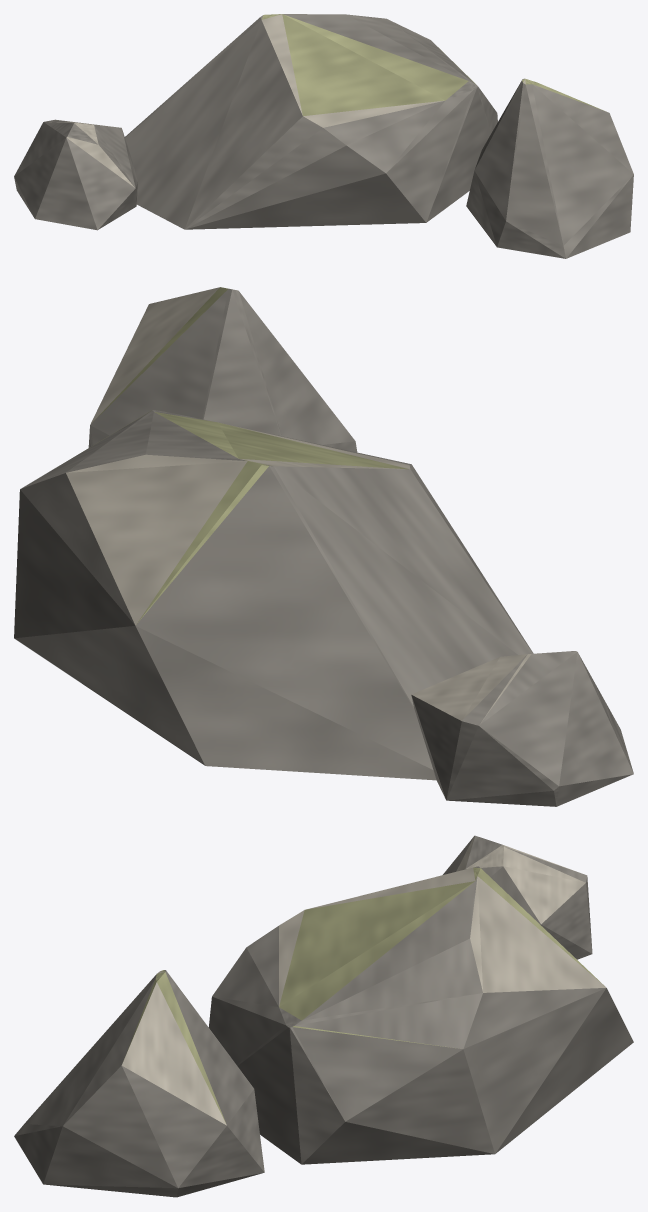
Rendered from rock_pebble_set_02.fbx.
The picture shows the model from 3 angles, top to bottom: view 1: azimuth 30°, elevation 25°; view 2: azimuth 150°, elevation 25°; view 3: azimuth 270°, elevation 25°; orthographic projection. The views are drawn at different scales.
Parts seen in each view (by area): view 1: rock_pebble_set_02; view 2: rock_pebble_set_02; view 3: rock_pebble_set_02.
Part boxes in pixels (x1,y1,x2,y2): rock_pebble_set_02: (14,14,633,258); rock_pebble_set_02: (14,287,633,806); rock_pebble_set_02: (14,835,633,1197).
Size of the model in its own units: 0.2943 by 0.0882 by 0.2626.
